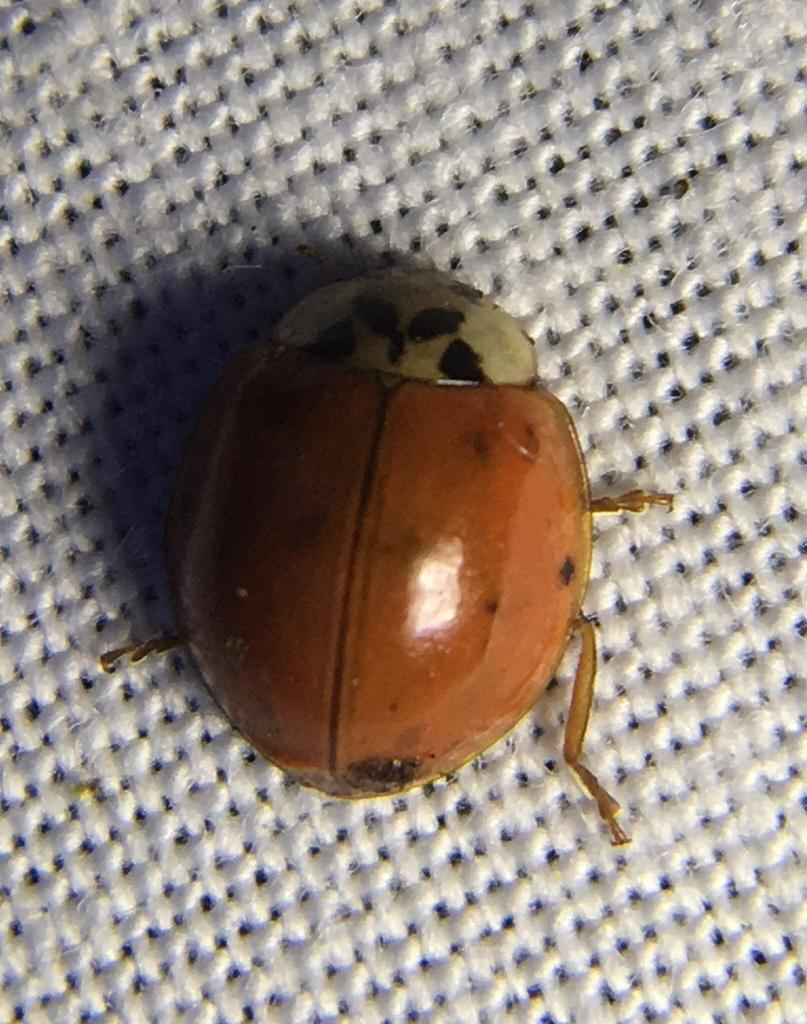ladybug: (104, 261, 684, 851)
